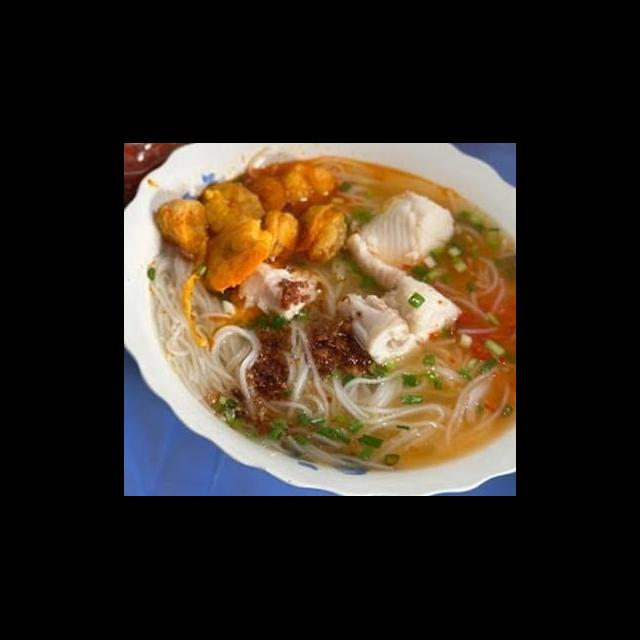bun: (270, 363, 511, 478), (142, 241, 272, 404)
bun ca: (151, 161, 490, 469)
ca: (330, 228, 467, 368), (336, 187, 460, 280), (235, 258, 325, 324)
tom: (196, 210, 276, 298), (242, 158, 339, 222), (152, 196, 214, 270), (197, 180, 268, 237), (291, 200, 349, 266), (255, 204, 304, 270)
